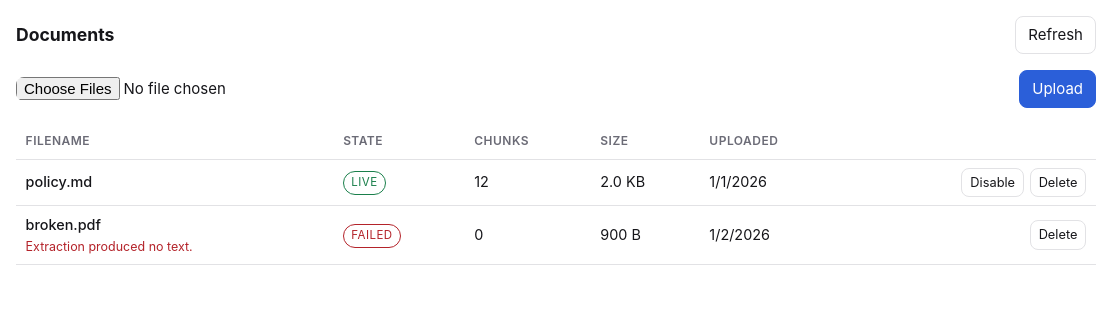
AdminPage › disables a live document and refreshes
The image size is (1113, 320).
Expected: the text "policy.md" is shown, [26,173,92,190]
Click the button "Disable": (993, 183) [961,168,1024,198]
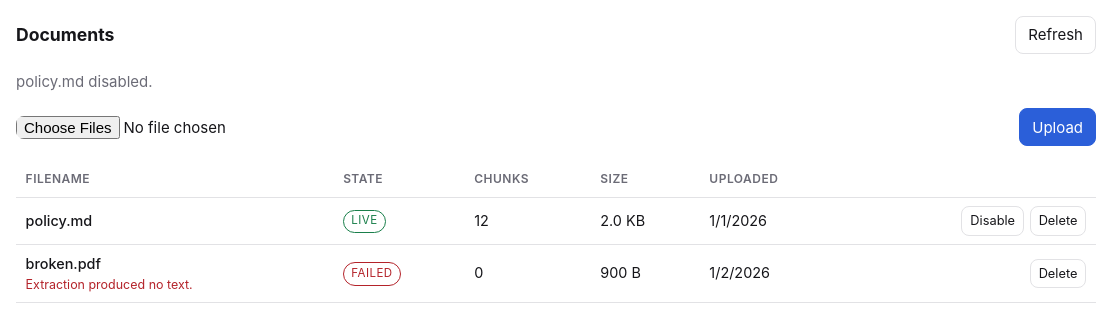
Expected: the text "policy.md disabled." is shown, [16,72,153,91]
